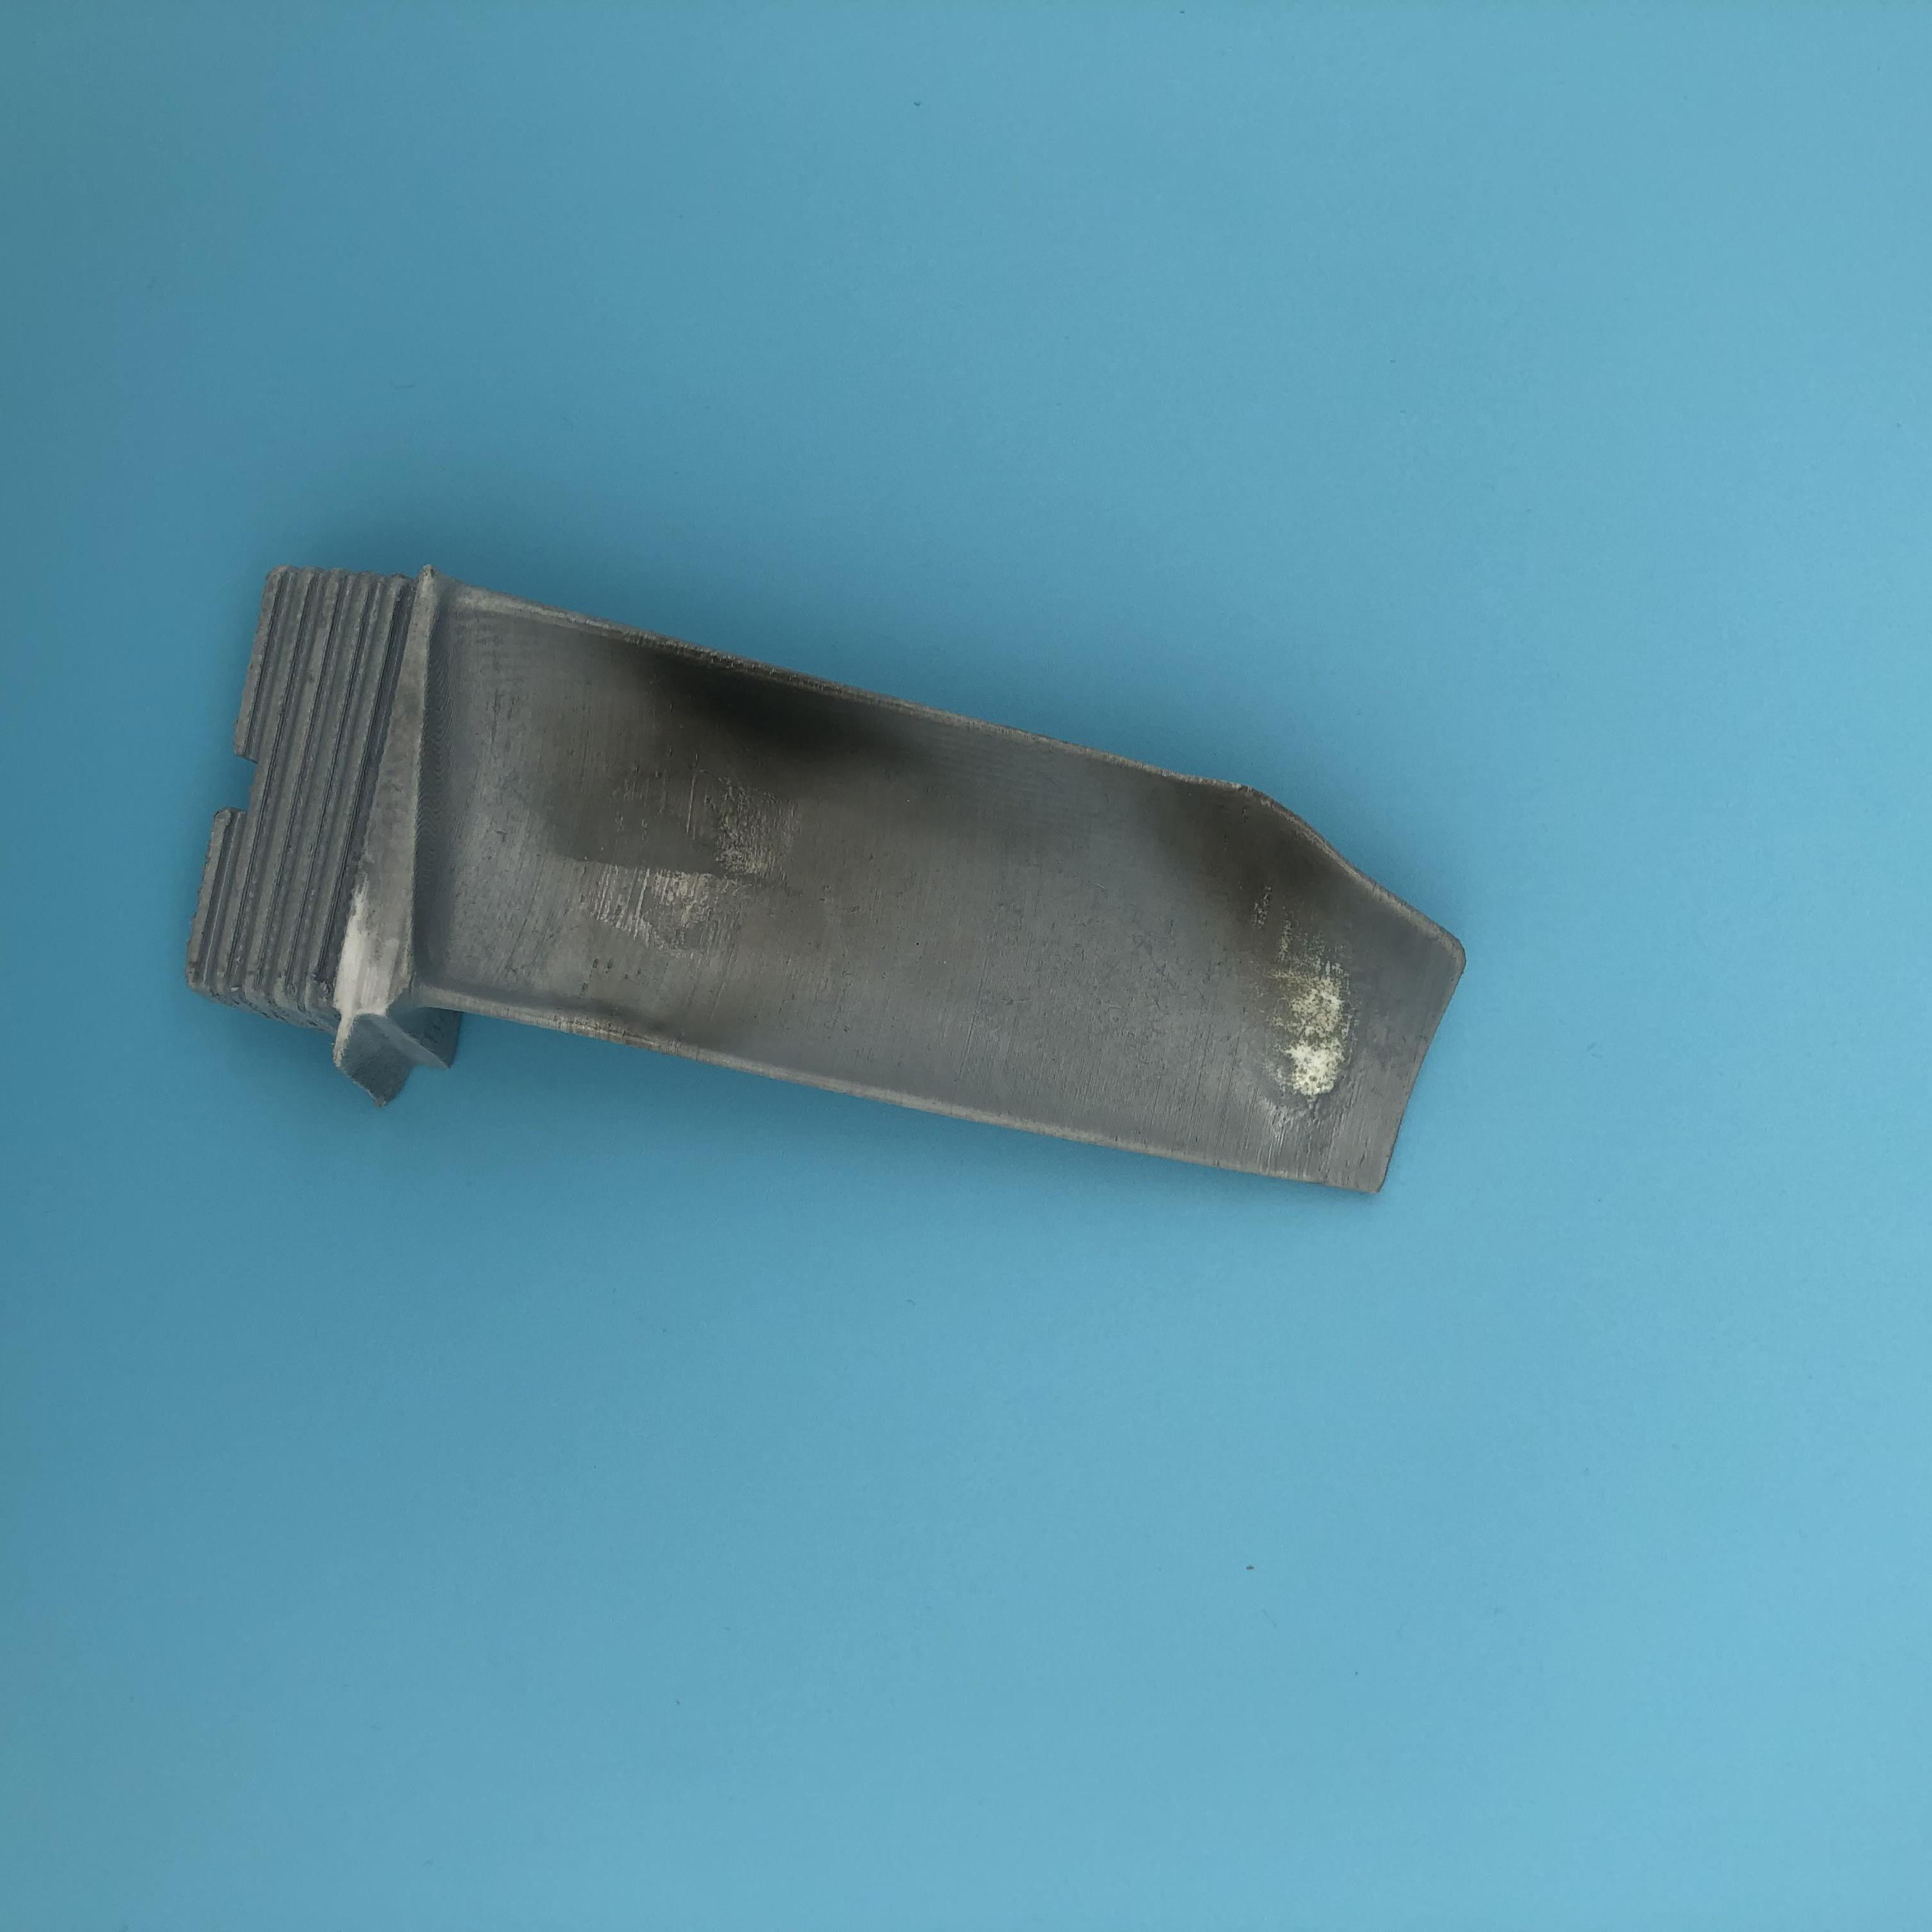ablation: (573, 630, 922, 1035), (1173, 791, 1376, 1127)
